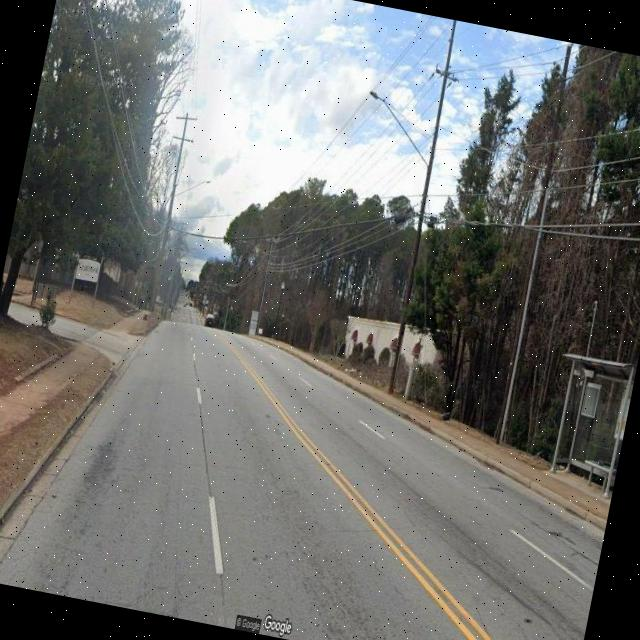seating: (580, 458, 616, 496)
shelter: (536, 350, 637, 502)
